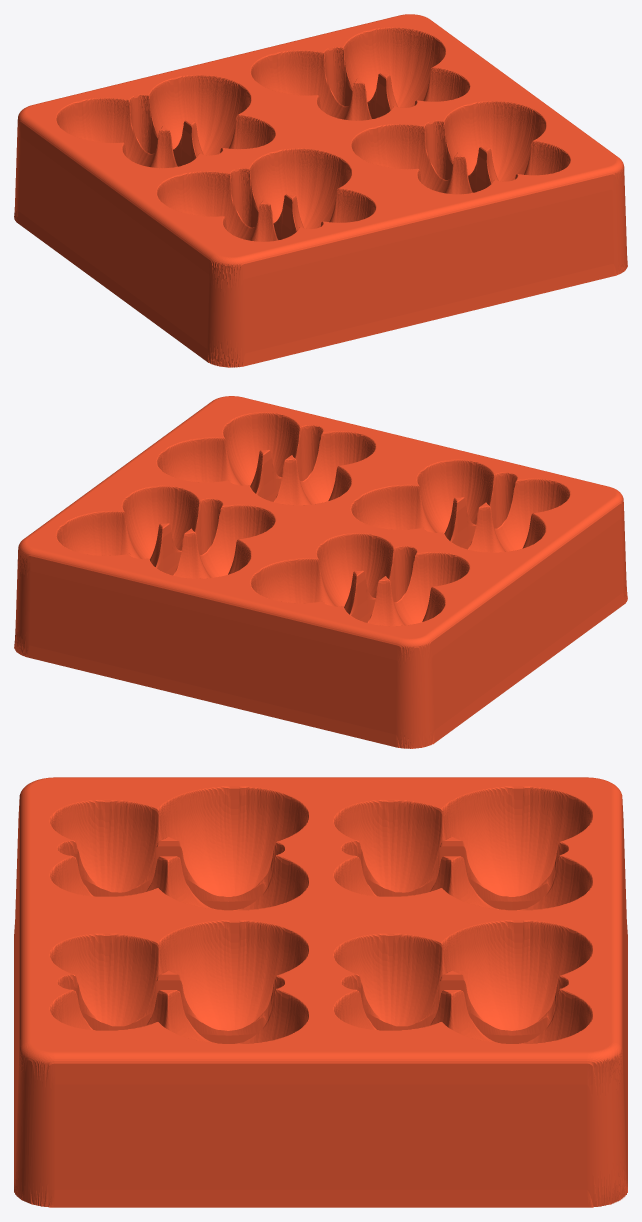
Rendered from mold.glb.
3 views of the same model, one above another, from view 1: azimuth 30°, elevation 25°; view 2: azimuth 150°, elevation 25°; view 3: azimuth 270°, elevation 25° (orthographic). The views are drawn at different scales.
Parts seen in each view (by area): view 1: geometry_0; view 2: geometry_0; view 3: geometry_0.
Boxes of the visible parts, x1=… form: geometry_0: x1=14, y1=14, x2=627, y2=367; geometry_0: x1=14, y1=396, x2=627, y2=748; geometry_0: x1=14, y1=777, x2=627, y2=1207.
Bounding box in the file's own units: 0.1493 × 0.036 × 0.1348.
